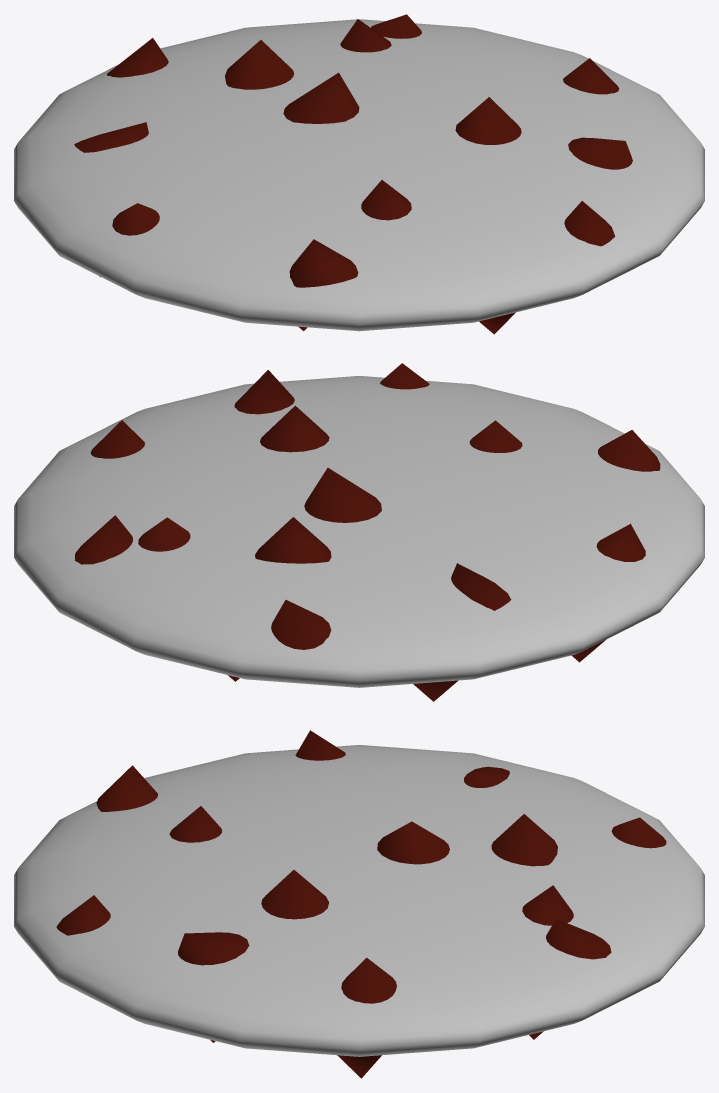
Rendered from cookieLP.fbx.
3 views of the same model, one above another, from view 1: azimuth 30°, elevation 25°; view 2: azimuth 150°, elevation 25°; view 3: azimuth 270°, elevation 25° (orthographic).
Visible parts, largest first — view 1: pSphere1, polySurface43, polySurface24, polySurface28, polySurface38, polySurface34, polySurface47, polySurface48, polySurface25, polySurface31, polySurface30, polySurface32 (+2 smaller); view 2: pSphere1, polySurface43, polySurface24, polySurface25, polySurface38, polySurface28, polySurface26, polySurface34, polySurface30, polySurface31, polySurface32, polySurface45 (+2 smaller); view 3: pSphere1, polySurface24, polySurface38, polySurface43, polySurface34, polySurface31, polySurface28, polySurface26, polySurface45, polySurface47, polySurface48, polySurface25 (+2 smaller).
Boxes of the visible parts, <box> form: pSphere1: <box>14,19,704,331</box>; polySurface43: <box>283,72,359,123</box>; polySurface24: <box>225,40,294,89</box>; polySurface28: <box>289,239,358,287</box>; polySurface38: <box>455,97,521,144</box>; polySurface34: <box>568,137,632,169</box>; polySurface47: <box>564,201,615,246</box>; polySurface48: <box>361,180,411,220</box>; polySurface25: <box>107,38,168,77</box>; polySurface31: <box>563,58,619,94</box>; polySurface30: <box>74,122,148,152</box>; polySurface32: <box>112,203,159,235</box>; pSphere1: <box>14,376,704,687</box>; polySurface43: <box>304,468,381,522</box>; polySurface24: <box>255,517,331,563</box>; polySurface25: <box>271,600,331,649</box>; polySurface38: <box>260,405,329,452</box>; polySurface28: <box>598,430,660,471</box>; polySurface26: <box>75,515,132,564</box>; polySurface34: <box>234,370,294,414</box>; polySurface30: <box>451,563,511,610</box>; polySurface31: <box>90,420,144,458</box>; polySurface32: <box>596,523,645,561</box>; polySurface45: <box>138,517,190,551</box>; pSphere1: <box>14,745,704,1056</box>; polySurface24: <box>491,814,557,866</box>; polySurface38: <box>261,870,328,919</box>; polySurface43: <box>377,821,449,864</box>; polySurface34: <box>178,932,249,965</box>; polySurface31: <box>341,957,396,1003</box>; polySurface28: <box>96,765,157,811</box>; polySurface26: <box>546,919,611,959</box>; polySurface45: <box>522,885,573,925</box>; polySurface47: <box>56,895,110,935</box>; polySurface48: <box>169,806,221,842</box>; polySurface25: <box>611,817,666,848</box>.
Bounding box in the file's own units: 1.69 × 0.4196 × 1.66.
